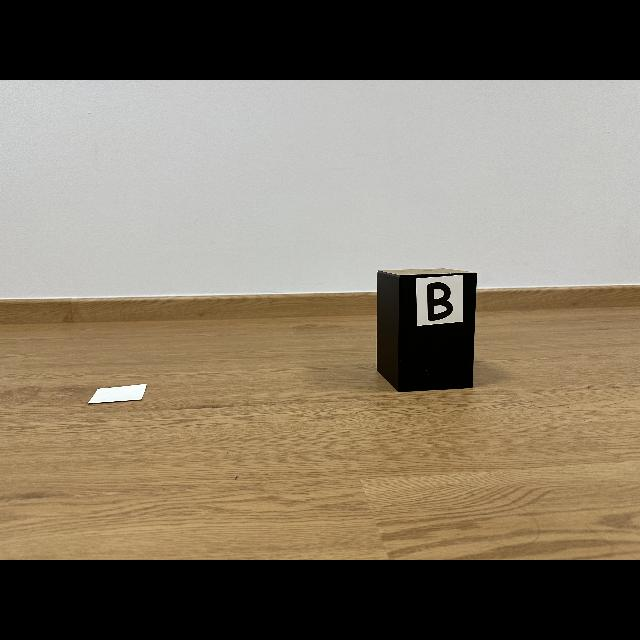B: (428, 282, 452, 321)
